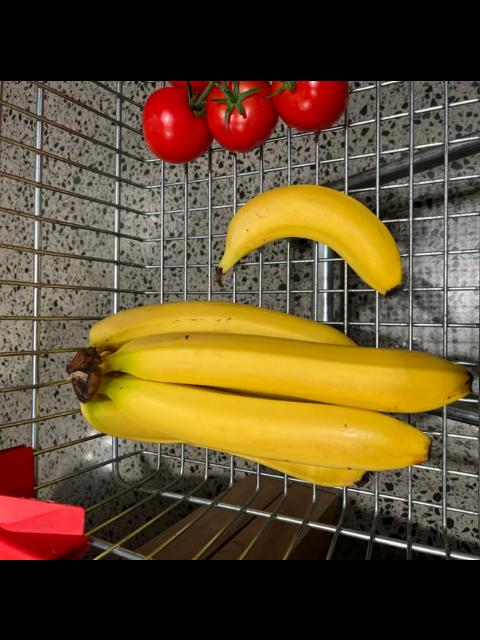Bananas: (85, 376, 434, 474), (87, 339, 471, 411), (214, 186, 406, 298), (83, 302, 353, 346)
